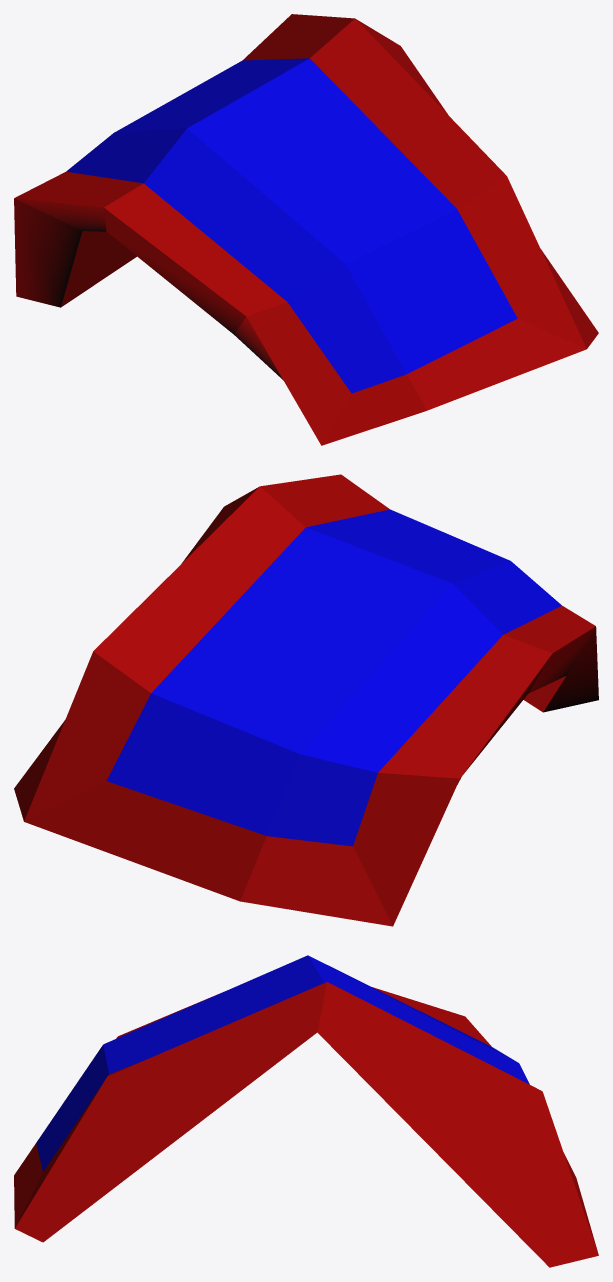
Rendered from Chr_ShoulderAttachRight_Static_02.fbx.
3 views of the same model, one above another, from view 1: azimuth 30°, elevation 25°; view 2: azimuth 150°, elevation 25°; view 3: azimuth 270°, elevation 25° (orthographic). The views are drawn at different scales.
Visible parts, largest first — view 1: Chr_ShoulderAttachRight_02; view 2: Chr_ShoulderAttachRight_02; view 3: Chr_ShoulderAttachRight_02.
Part boxes in pixels (box(x1,y1,x2,y2)): Chr_ShoulderAttachRight_02: box(14, 14, 598, 445); Chr_ShoulderAttachRight_02: box(14, 474, 598, 926); Chr_ShoulderAttachRight_02: box(14, 955, 598, 1267).
Size of the model in its own units: 24.59 by 17.8 by 33.38.
